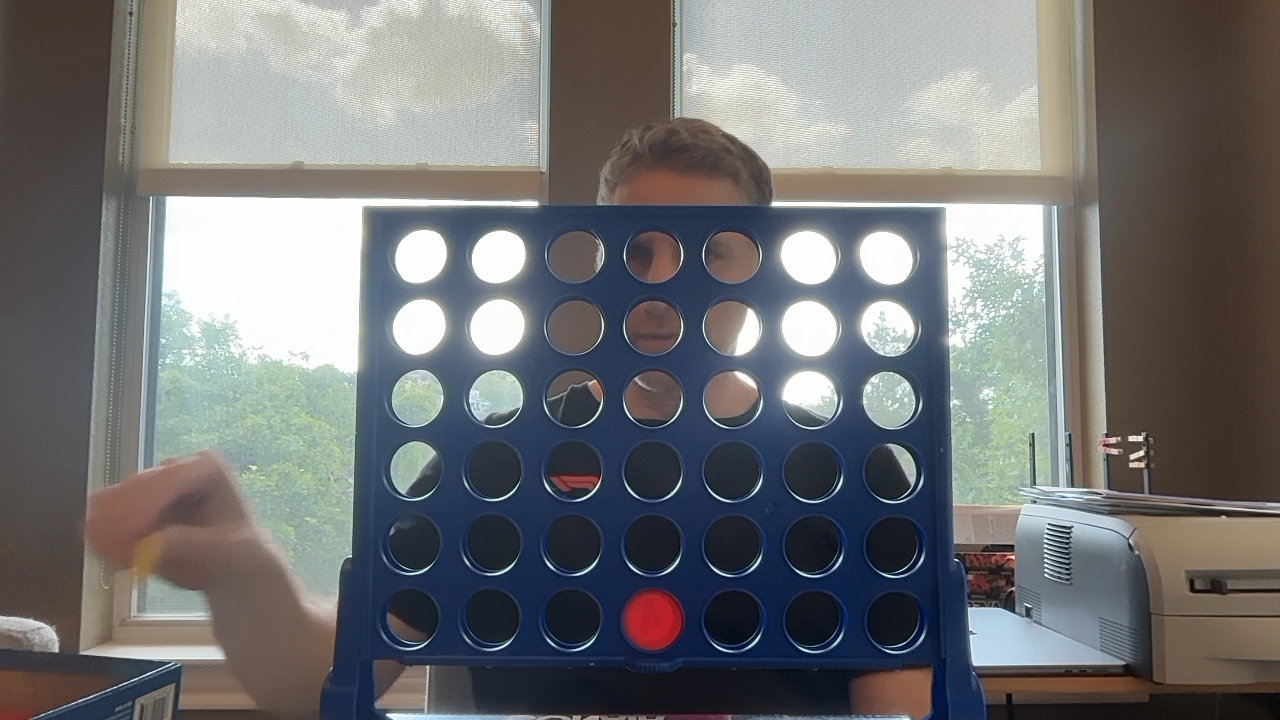red piece: (621, 589, 683, 651)
